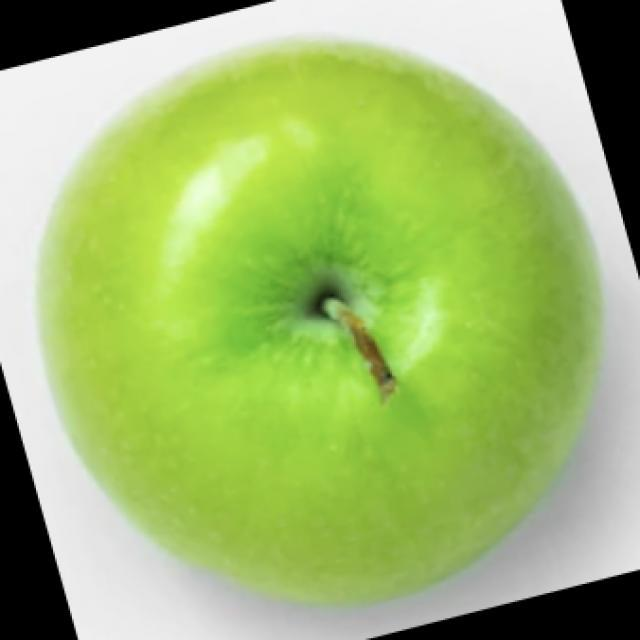Fresh Apple: (95, 62, 570, 588)
